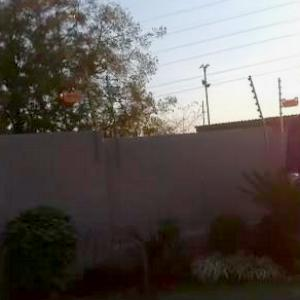follow: (281, 45, 299, 299)
